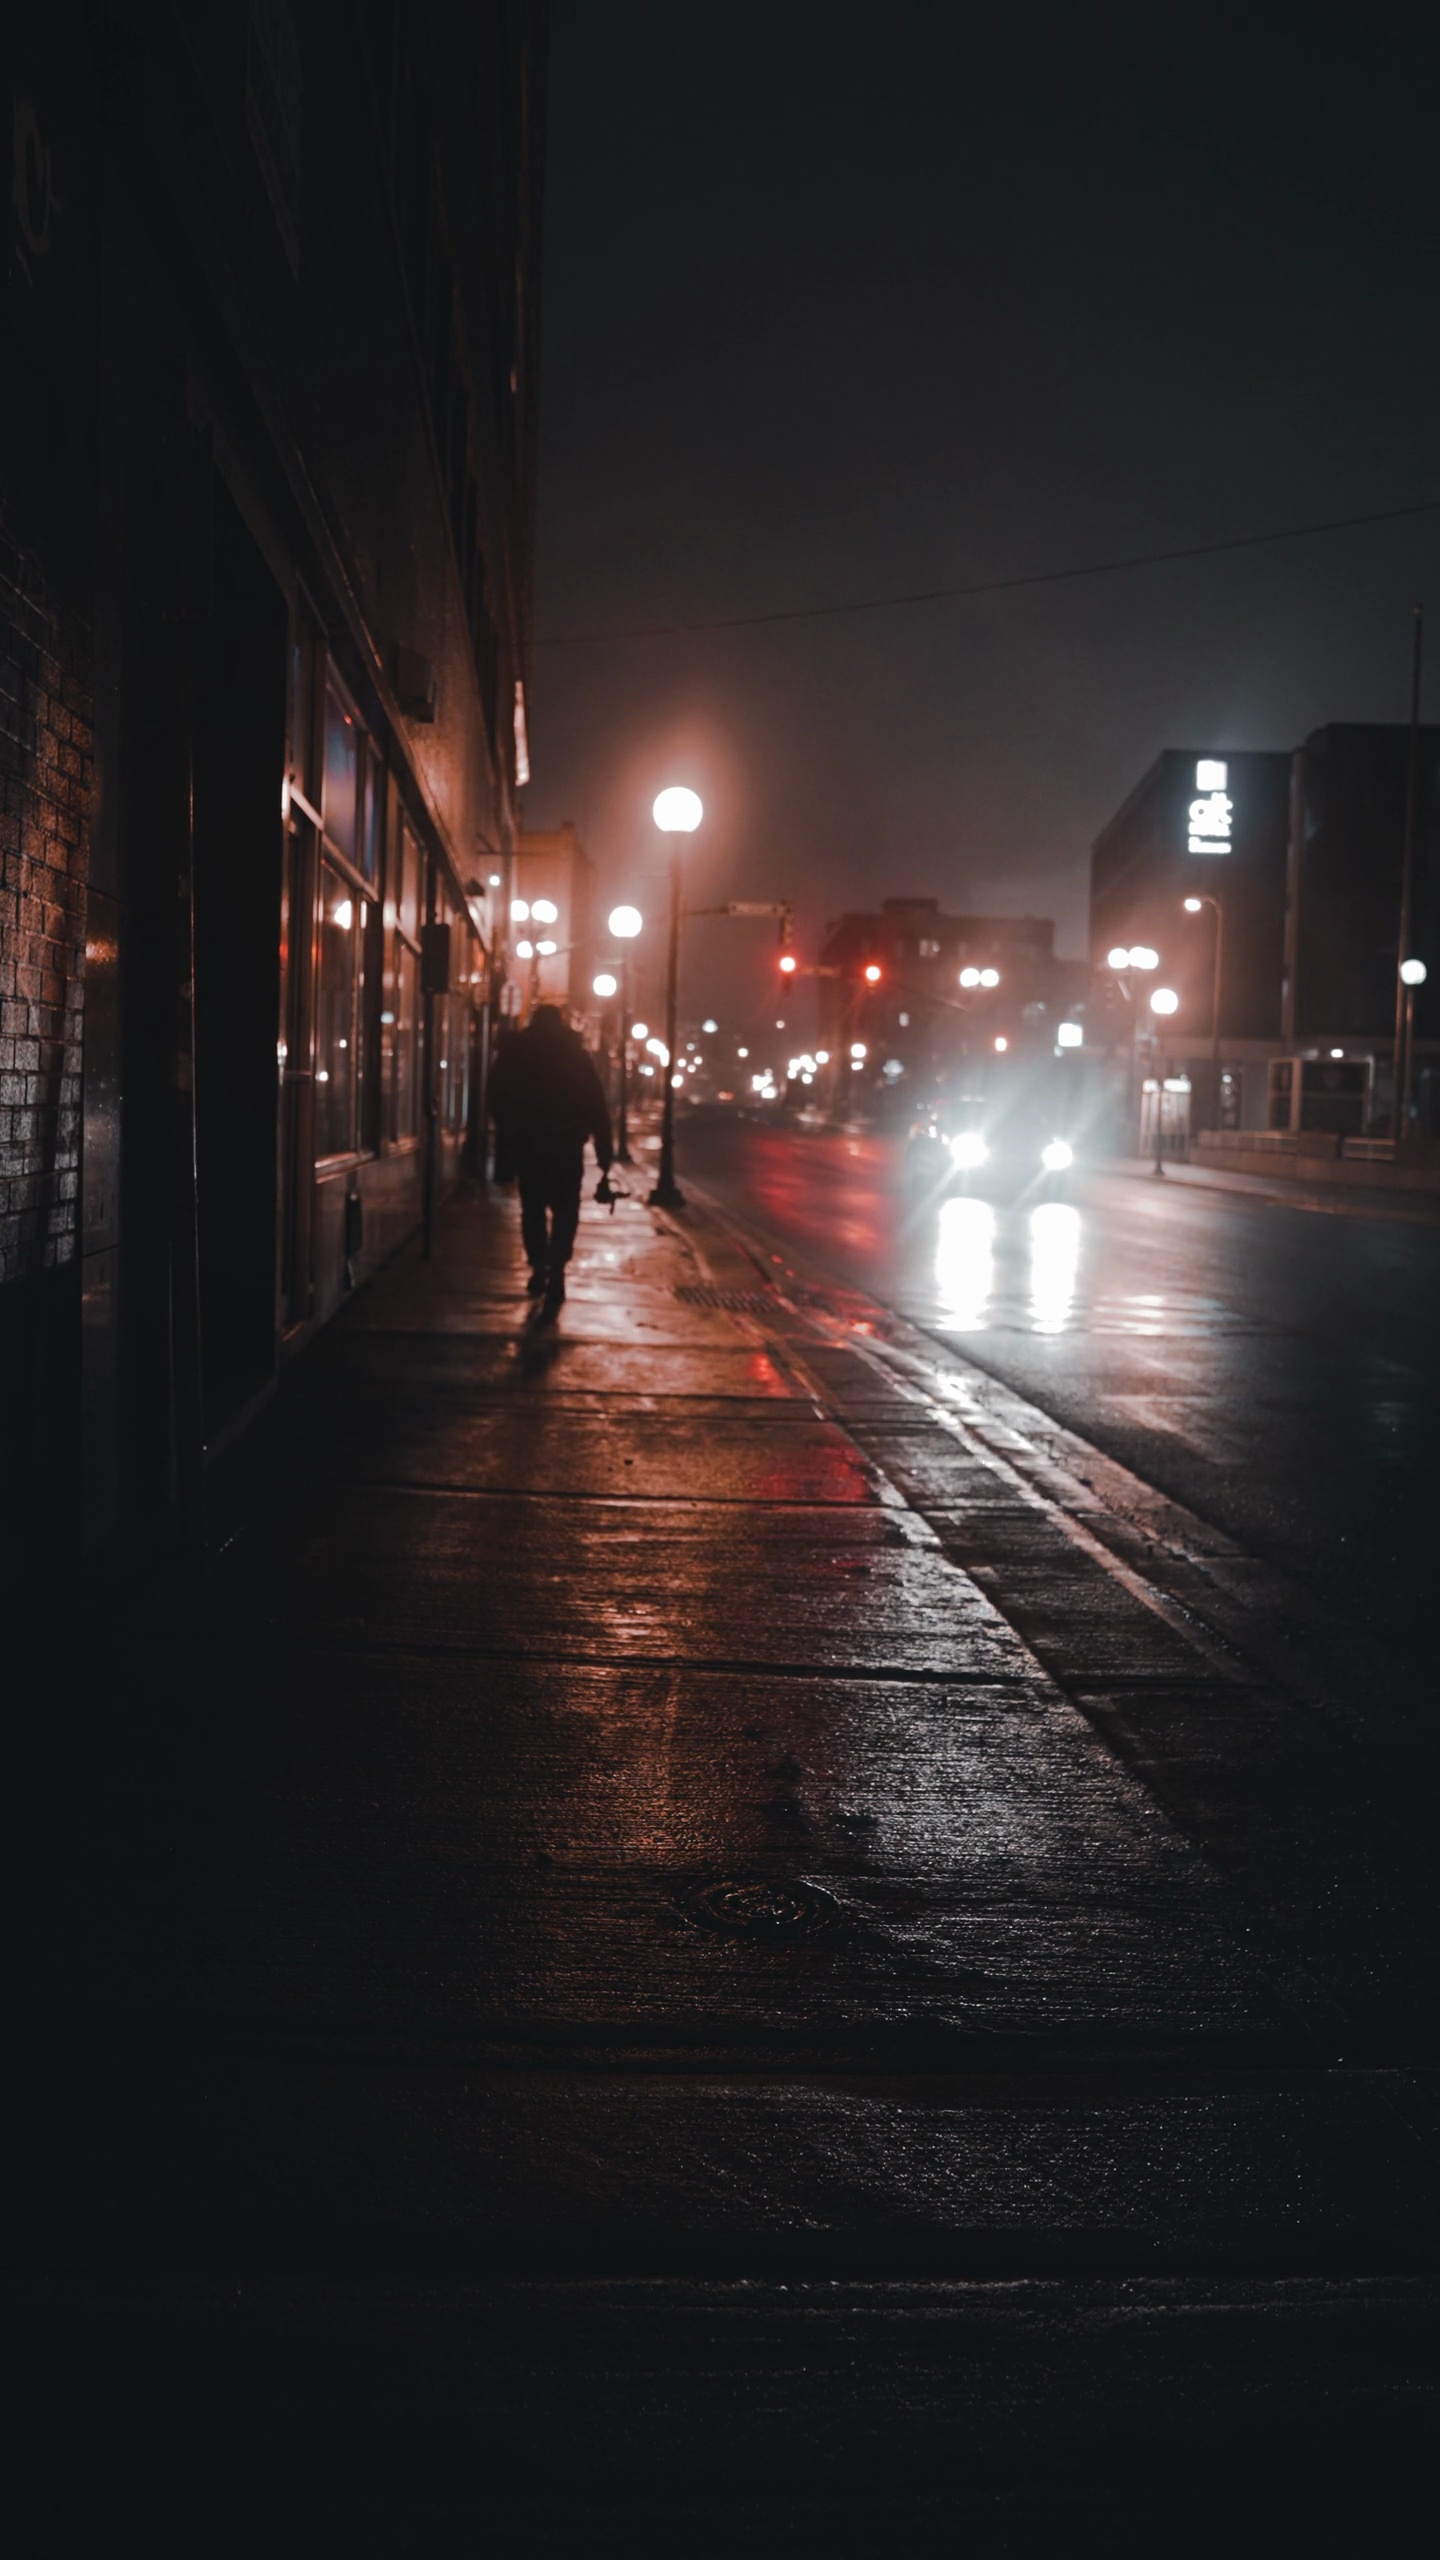person: (481, 1019, 618, 1309)
